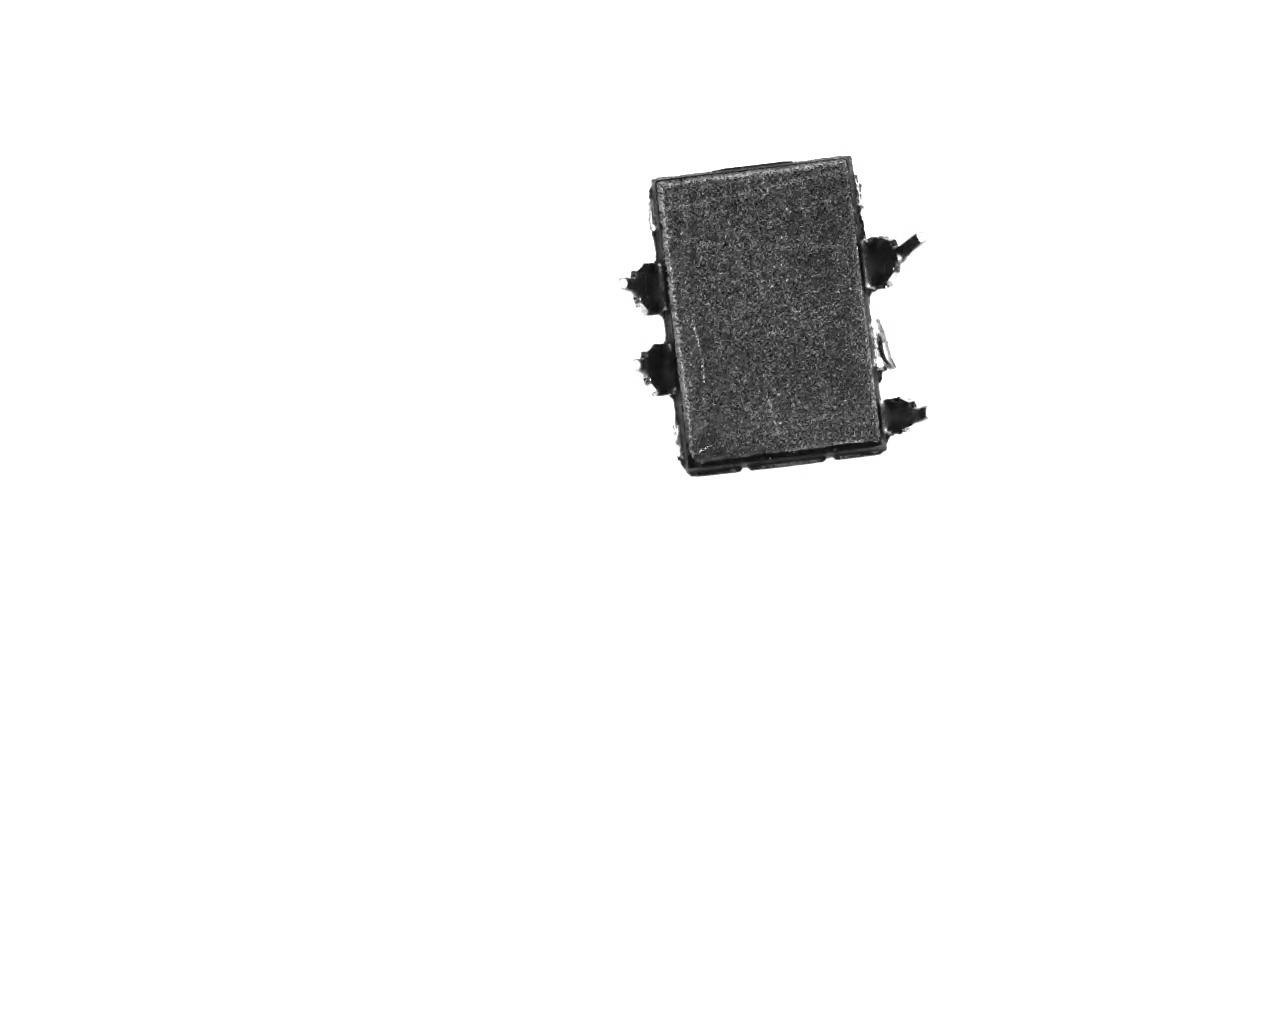brokenLeg: (612, 260, 677, 322), (619, 334, 685, 394), (854, 231, 925, 281), (877, 394, 933, 433)
missingLeg: (660, 412, 702, 470), (865, 310, 898, 381), (842, 155, 874, 220), (641, 183, 669, 248)
